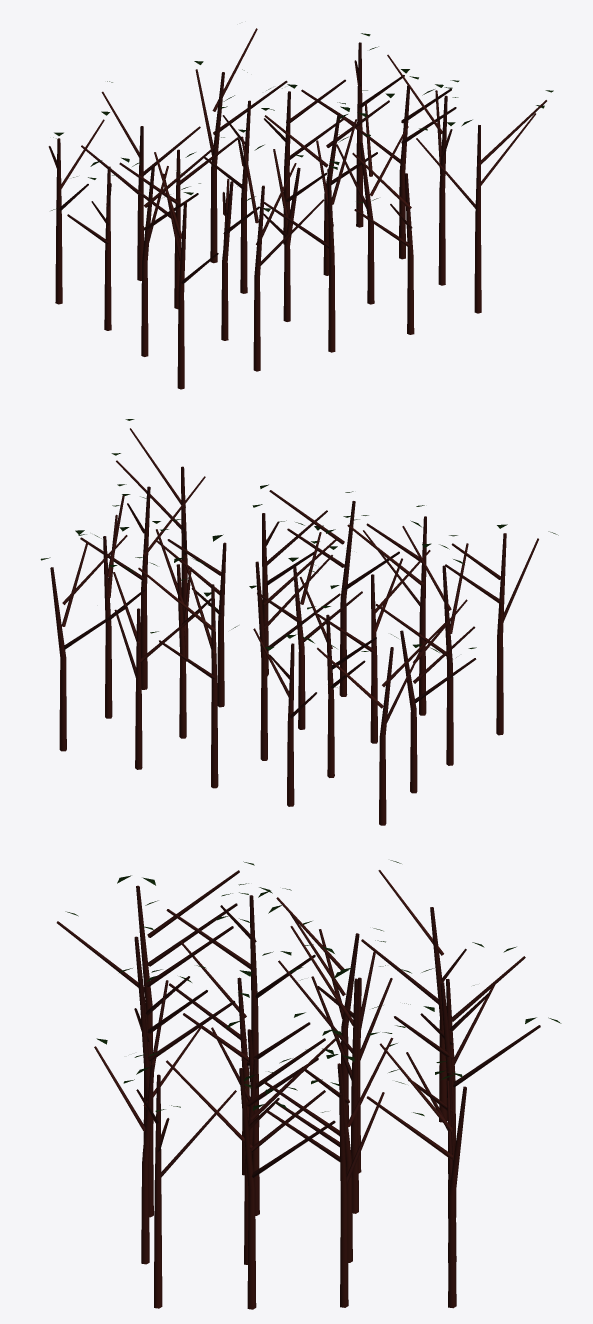
File: fm_cassava_3.glb
The picture shows the model from 3 angles, top to bottom: view 1: azimuth 30°, elevation 25°; view 2: azimuth 150°, elevation 25°; view 3: azimuth 270°, elevation 25°; orthographic projection. The views are drawn at different scales.
Parts seen in each view (by area): view 1: fm_cassava_3; view 2: fm_cassava_3; view 3: fm_cassava_3.
Boxes of the visible parts, x1,y1,x2,y2 form: fm_cassava_3: (48, 28, 553, 389); fm_cassava_3: (40, 419, 558, 825); fm_cassava_3: (56, 860, 561, 1309).
Size of the model in its own units: 5 by 2.18 by 4.19.
